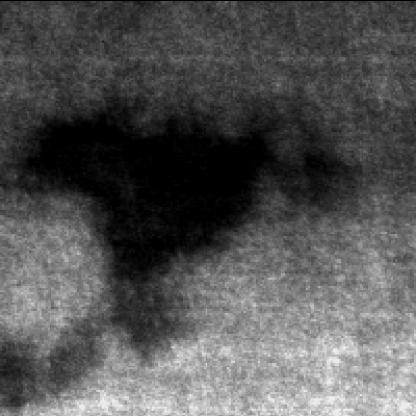patches: (33, 119, 287, 268), (52, 283, 202, 391)
